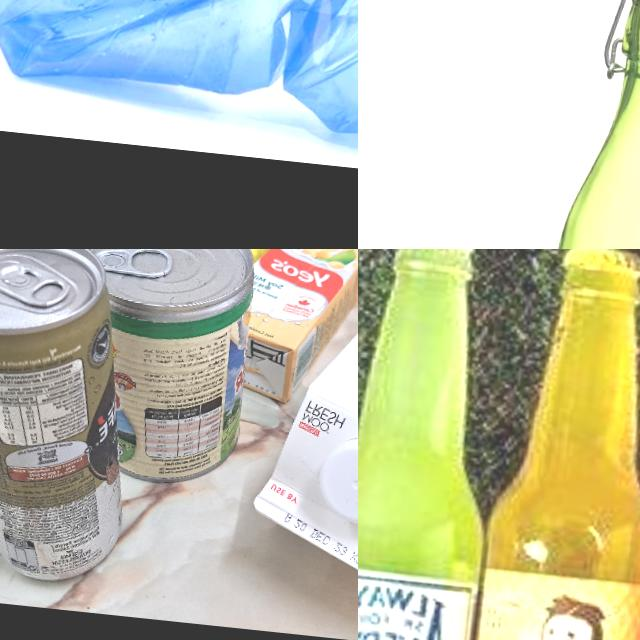aba de lata: (0, 260, 69, 314), (86, 249, 171, 282)
caixinha: (244, 249, 358, 612), (228, 249, 358, 410)
garrafa de vidro: (445, 249, 640, 640), (358, 249, 518, 640), (519, 0, 640, 249)
garrafa plástica: (0, 0, 358, 165)
lata: (0, 249, 151, 589), (62, 249, 259, 488)
tampa plástica: (316, 429, 358, 530)
